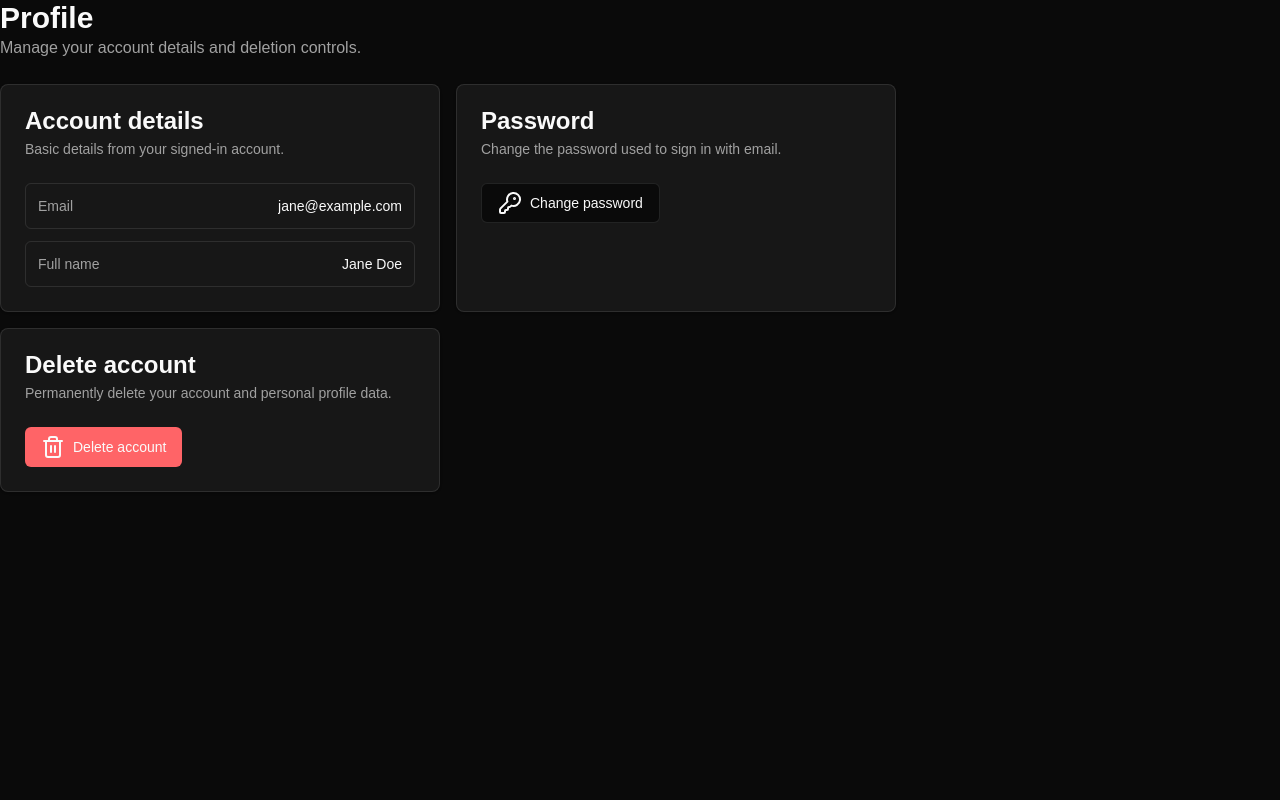
Test: profile view › validates confirmation email without calling the endpoint
Click the button "Delete account" at (104, 447), box [25,427,182,467]
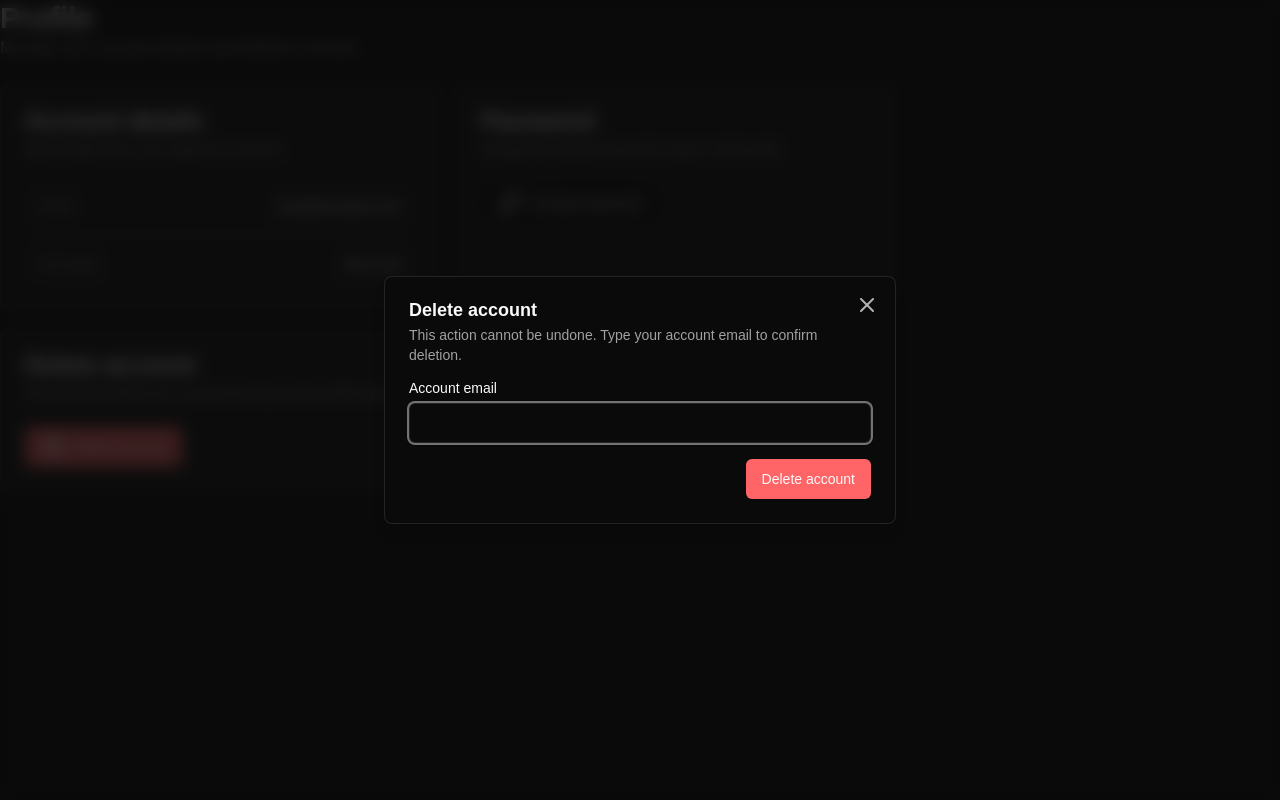
Click the button "Delete account" at (808, 479), box [746,459,871,499]
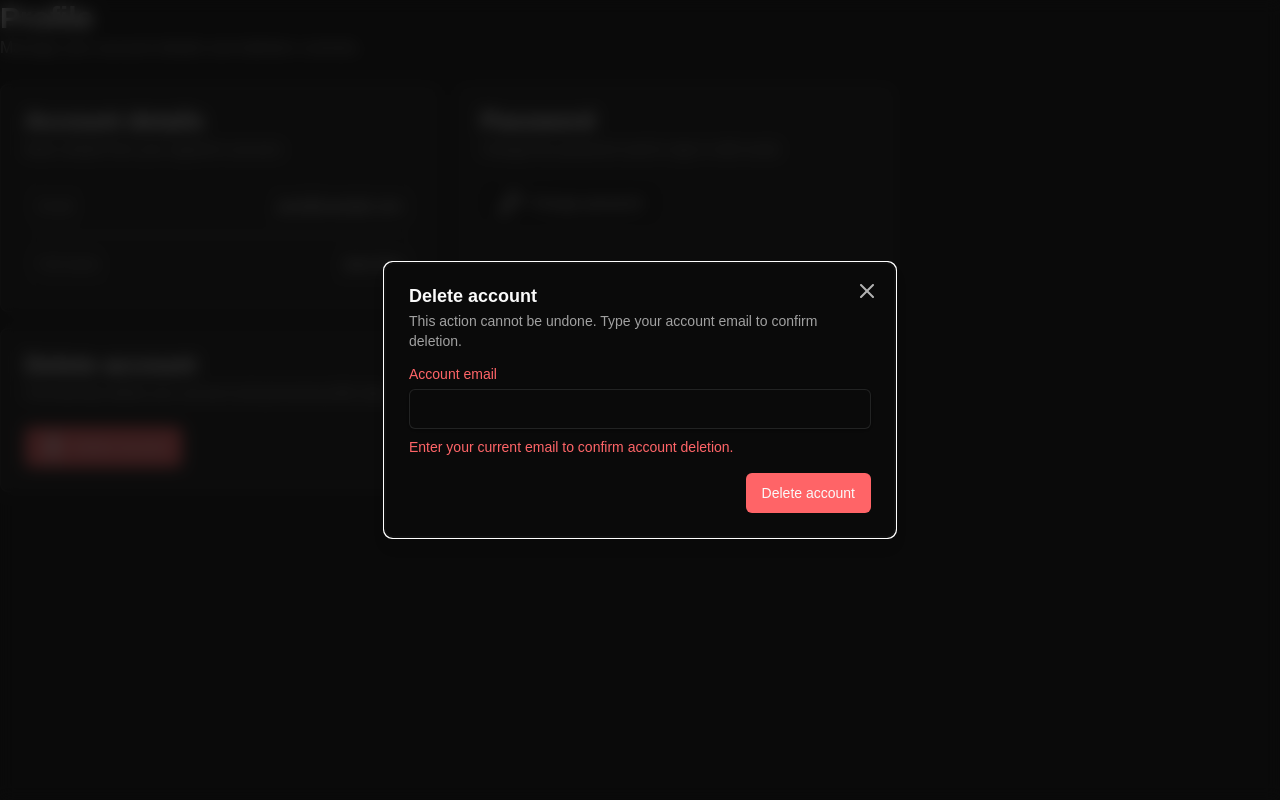
Result: the text "Enter your current email to confirm account deletion." is shown at [409,439,734,455]
